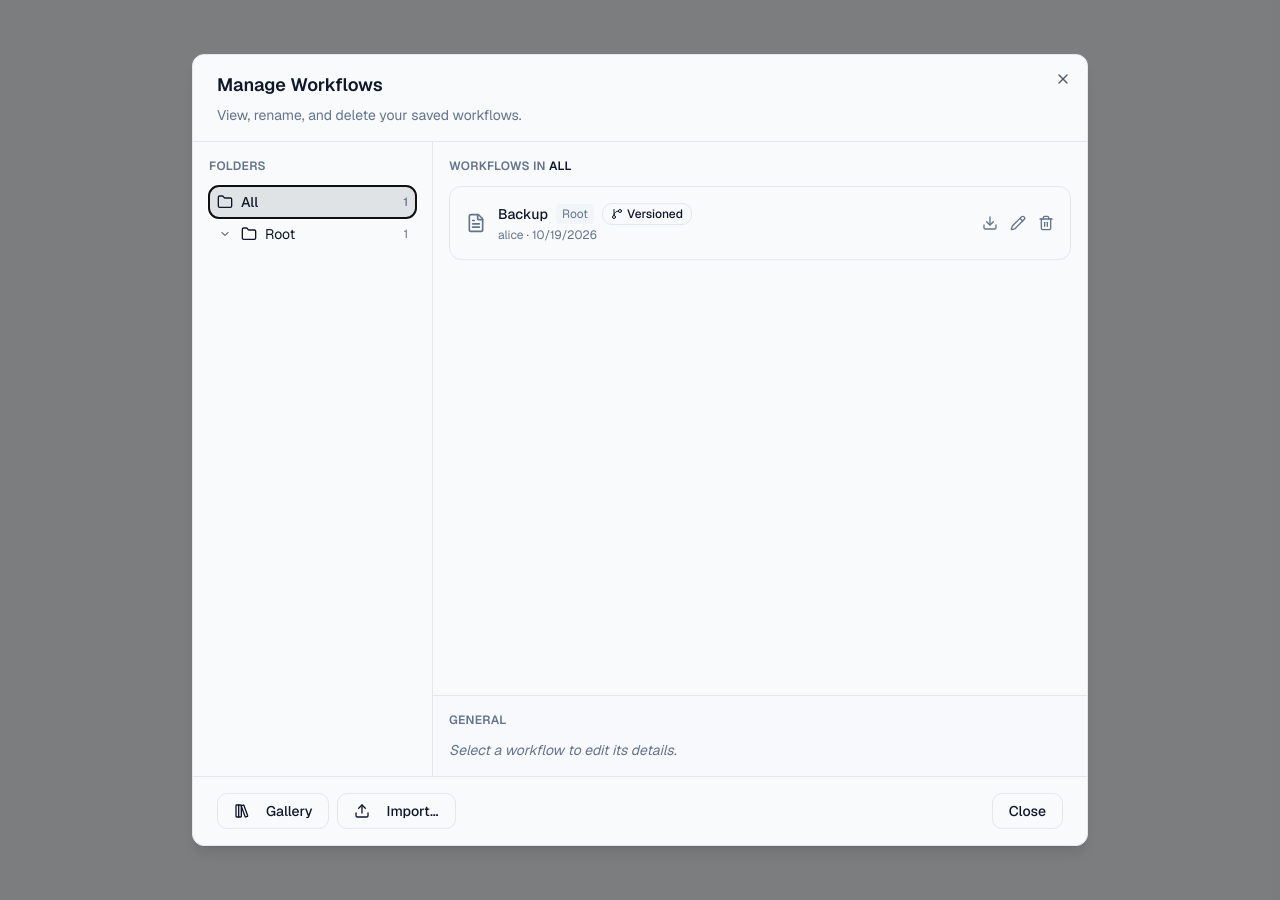
Test case: WorkflowManageDialog edit › lets a versioned workflow be switched off even without a repository
Click the button named "Edit workflow" at x=1018, y=223, box [1010,215,1026,231]
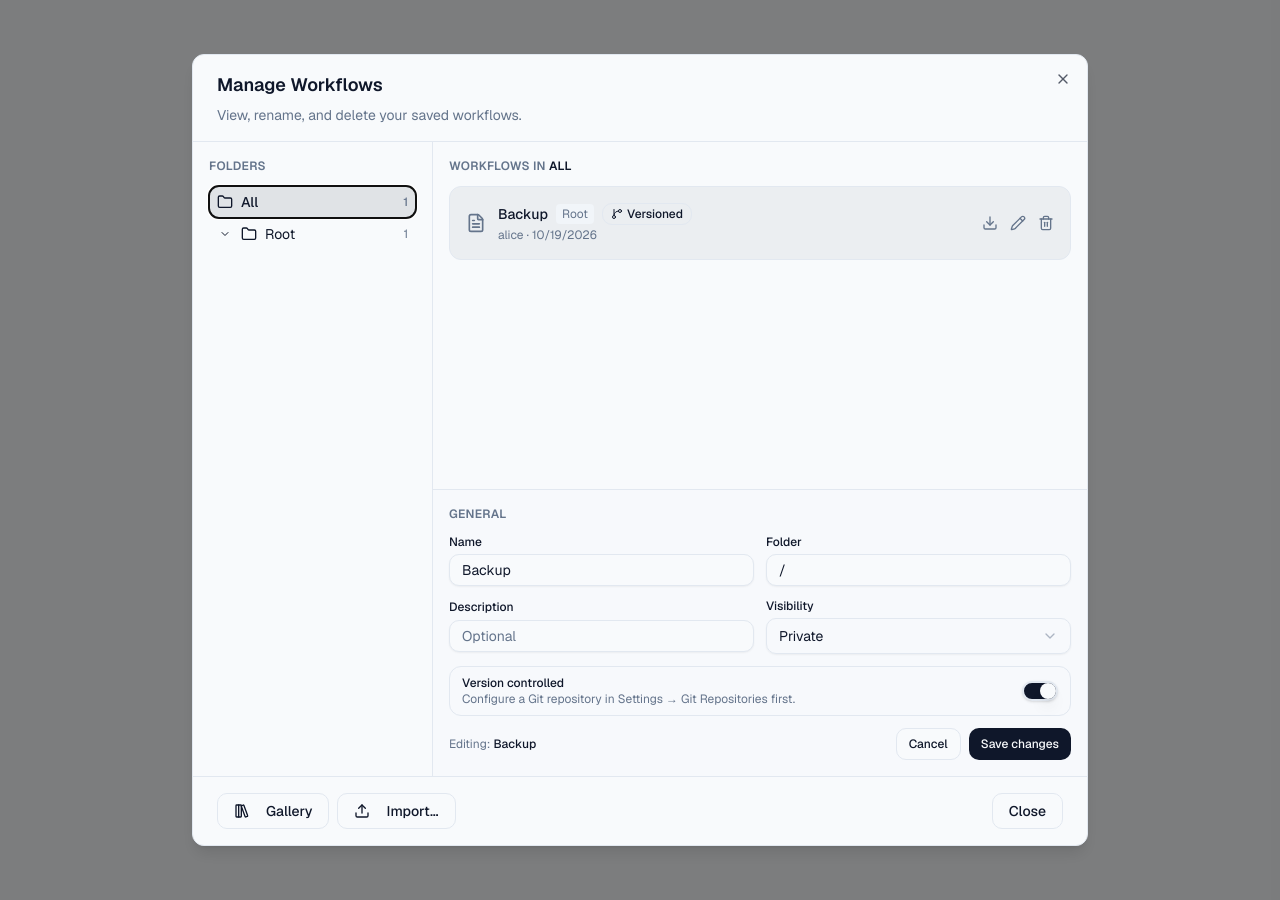
Check: the switch is enabled, box [1022,681,1058,701]
